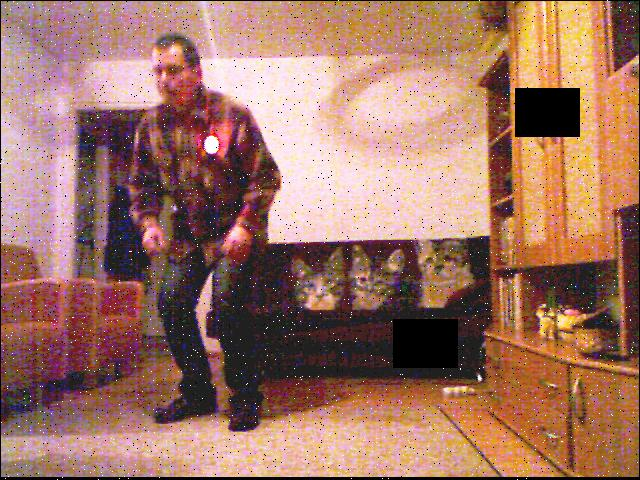bending: (106, 21, 286, 447)
